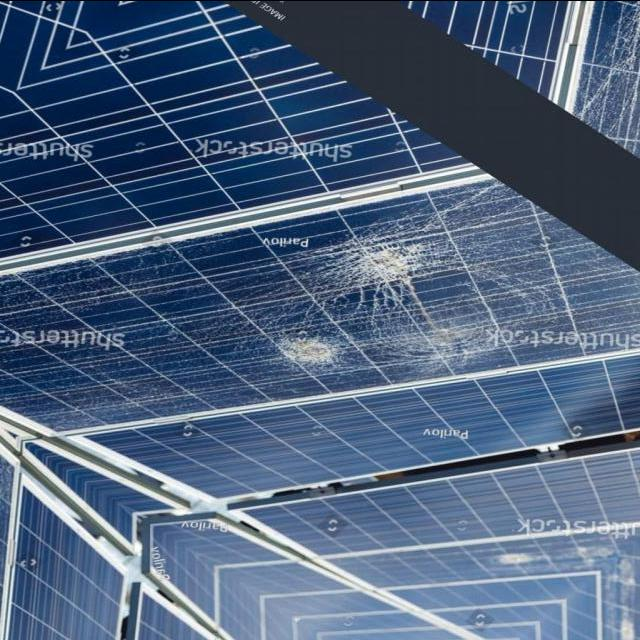cracked: (2, 184, 640, 438), (472, 532, 640, 640), (562, 0, 640, 145)
